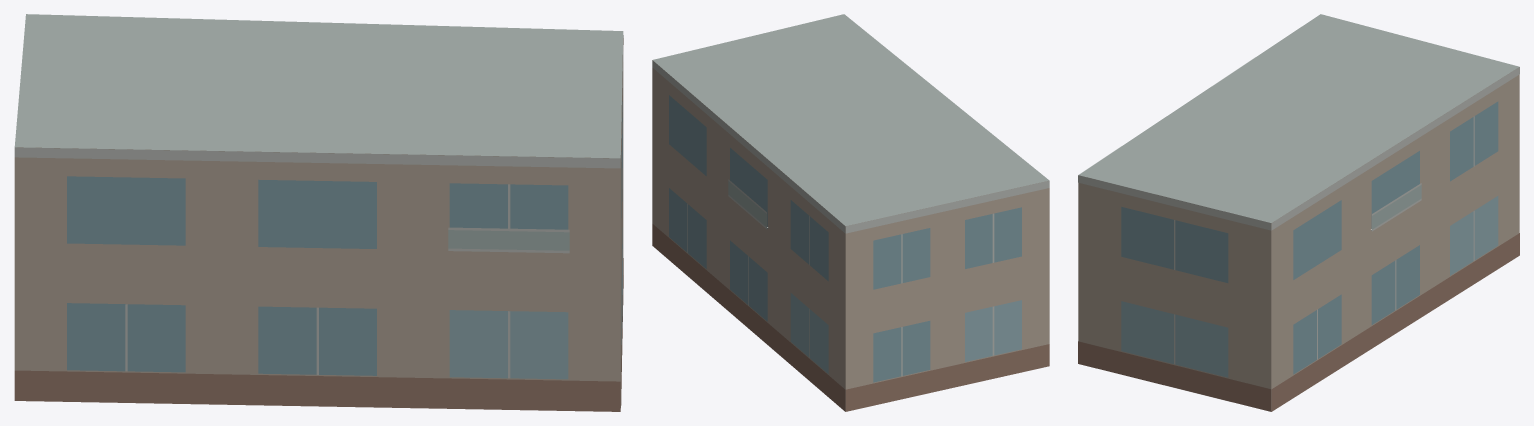
The model's file is survey-upis-32667797.glb.
3 renders of one model, left to right at view 1: azimuth 30°, elevation 25°; view 2: azimuth 150°, elevation 25°; view 3: azimuth 270°, elevation 25°, orthographic. The views are drawn at different scales.
Parts seen in each view (by area): view 1: survey-upis-32667797.tmp; view 2: survey-upis-32667797.tmp; view 3: survey-upis-32667797.tmp.
Boxes of the visible parts, box(x1,y1,x2,y2) form: survey-upis-32667797.tmp: box(14, 14, 623, 411); survey-upis-32667797.tmp: box(652, 14, 1049, 411); survey-upis-32667797.tmp: box(1078, 14, 1519, 411).
Size of the model in its own units: 14.5 by 6.1 by 12.94.
